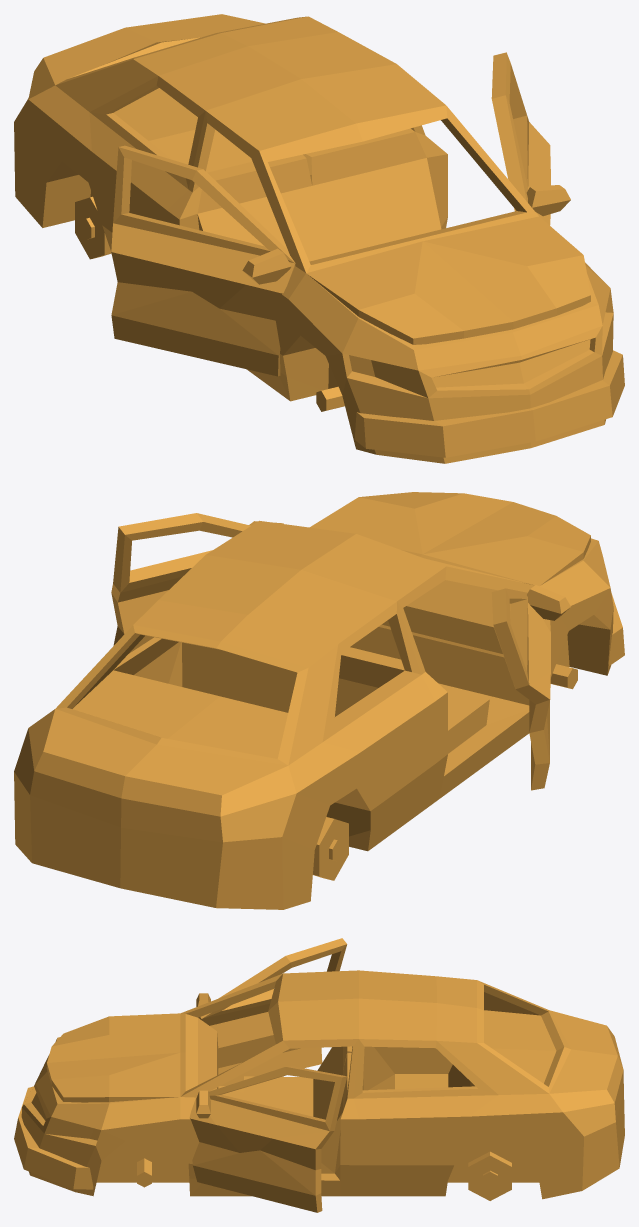
The model's file is car-broken.fbx.
The picture shows the model from 3 angles, top to bottom: view 1: azimuth 30°, elevation 25°; view 2: azimuth 150°, elevation 25°; view 3: azimuth 270°, elevation 25°; orthographic projection. The views are drawn at different scales.
Parts seen in each view (by area): view 1: car-broken; view 2: car-broken; view 3: car-broken.
Boxes of the visible parts, box(x1,y1,x2,y2) form: car-broken: box(14, 14, 624, 463); car-broken: box(14, 492, 624, 909); car-broken: box(14, 938, 624, 1212).
Size of the model in its own units: 2.91 by 1.37 by 4.77.
